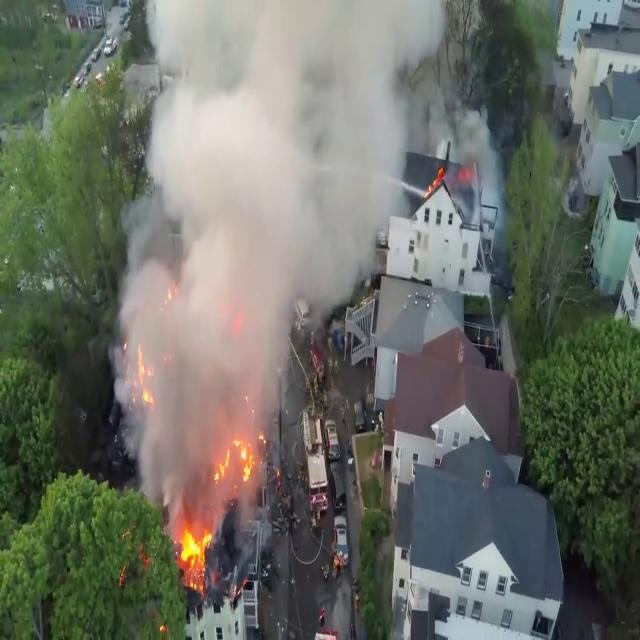Fire: (215, 428, 261, 492), (177, 518, 213, 585)
Smoke: (110, 0, 428, 511), (110, 1, 316, 512)
